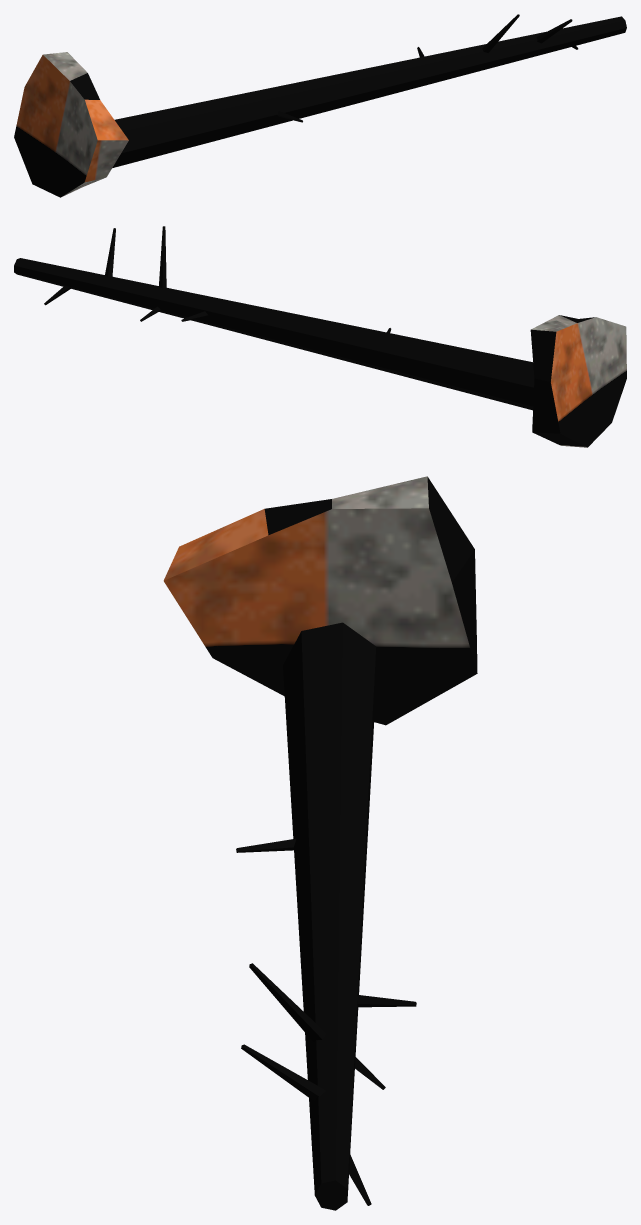
Rendered from SM_pine_fallen.fbx.
3 views of the same model, one above another, from view 1: azimuth 30°, elevation 25°; view 2: azimuth 150°, elevation 25°; view 3: azimuth 270°, elevation 25° (orthographic). The views are drawn at different scales.
Visible parts, largest first — view 1: pine_fallen; view 2: pine_fallen; view 3: pine_fallen.
Part boxes in pixels (x1,y1,x2,y2): pine_fallen: (14,14,626,197); pine_fallen: (14,226,626,447); pine_fallen: (163,476,477,1210).
Bounding box in the file's own units: 7.6 × 1.53 × 1.79.
